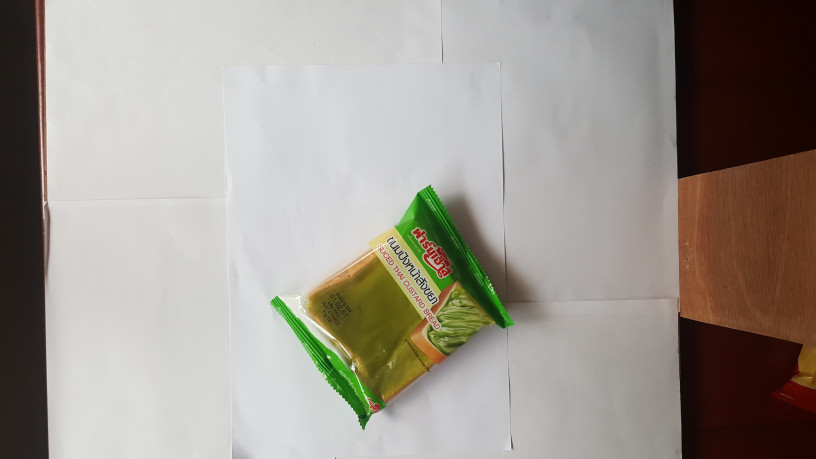farmhouse-bread-pandan: (262, 176, 517, 435)
